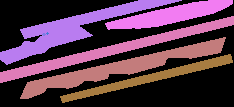parkingspot: (0, 16, 234, 82), (20, 37, 225, 98), (60, 54, 232, 102), (20, 0, 181, 38), (105, 0, 232, 29), (0, 24, 92, 64)
